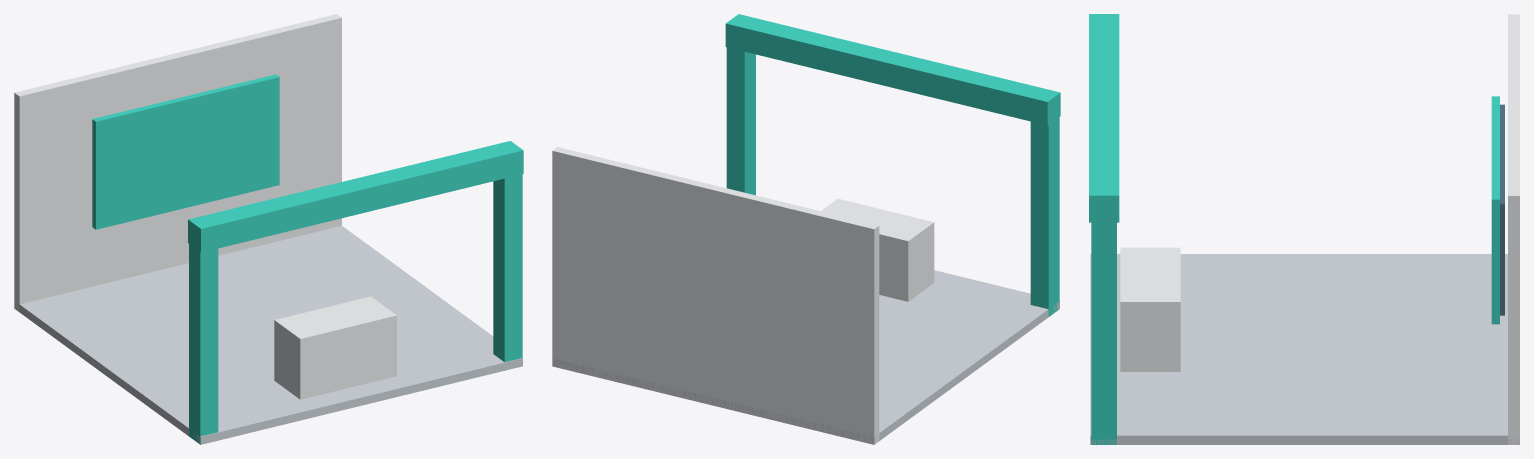
3 views of the same model, side by side, from view 1: azimuth 30°, elevation 25°; view 2: azimuth 150°, elevation 25°; view 3: azimuth 270°, elevation 25° (orthographic). The views are drawn at different scales.
Parts seen in each view (by area): view 1: Exhibition Booth Concept; view 2: Exhibition Booth Concept; view 3: Exhibition Booth Concept.
Boxes of the visible parts, box(x1,y1,x2,y2) form: Exhibition Booth Concept: box(14, 14, 523, 444); Exhibition Booth Concept: box(552, 14, 1060, 444); Exhibition Booth Concept: box(1089, 14, 1519, 444).
Size of the model in its own units: 5 by 3.2 by 5.02.
